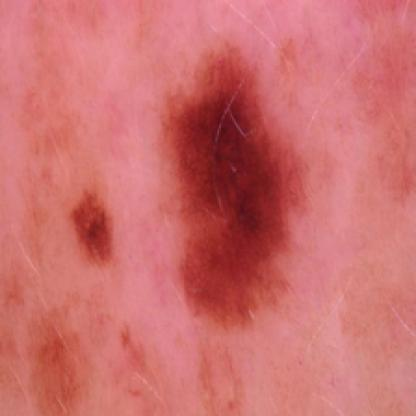benign: (54, 59, 317, 329)
